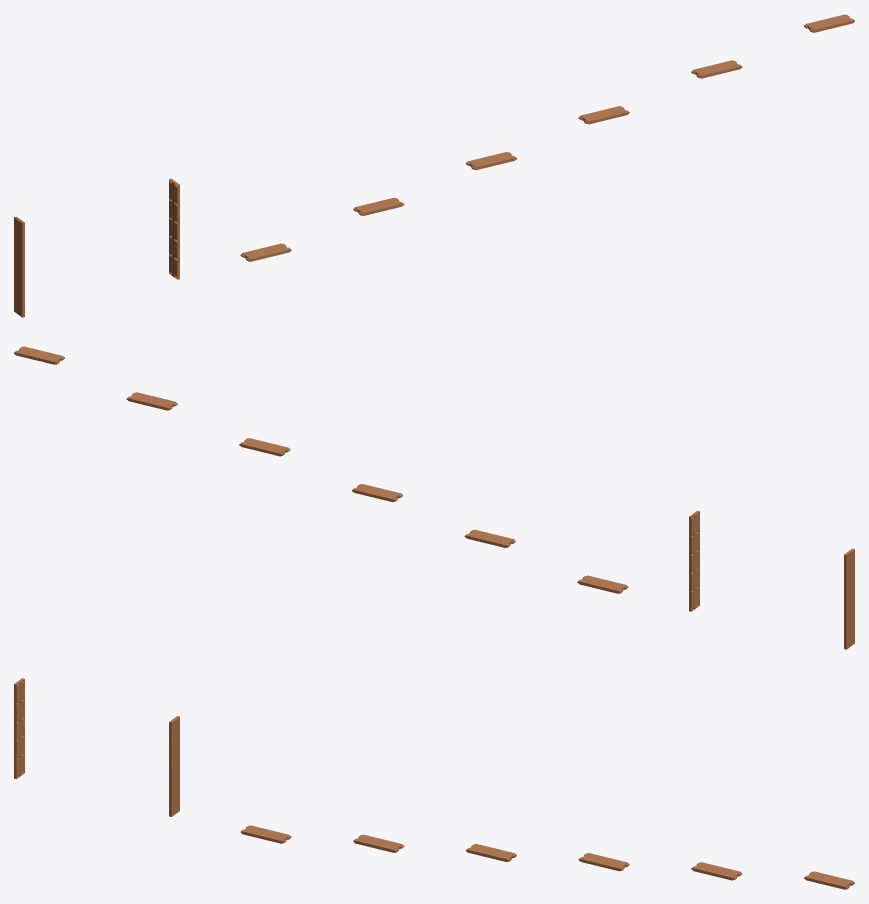
File: exploded.glb
The picture shows the model from 3 angles, top to bottom: view 1: azimuth 30°, elevation 25°; view 2: azimuth 150°, elevation 25°; view 3: azimuth 330°, elevation 25°; orthographic projection.
Visible parts, largest first — view 1: side_left_mesh, side_right_mesh; view 2: side_left_mesh, side_right_mesh; view 3: side_left_mesh, side_right_mesh, shelf_bottom_mesh, shelf_level_5_mesh, shelf_level_2_mesh, shelf_level_4_mesh, cap_top_mesh, shelf_level_3_mesh.
Boxes of the visible parts, bbox=[...] form: side_left_mesh: bbox=[14, 216, 24, 317]; side_right_mesh: bbox=[169, 178, 179, 279]; side_left_mesh: bbox=[844, 548, 854, 649]; side_right_mesh: bbox=[689, 510, 699, 611]; side_left_mesh: bbox=[14, 678, 24, 778]; side_right_mesh: bbox=[169, 716, 179, 816]; shelf_bottom_mesh: bbox=[240, 825, 291, 843]; shelf_level_5_mesh: bbox=[691, 862, 742, 880]; shelf_level_2_mesh: bbox=[353, 834, 404, 852]; shelf_level_4_mesh: bbox=[578, 853, 629, 871]; cap_top_mesh: bbox=[804, 871, 854, 889]; shelf_level_3_mesh: bbox=[466, 844, 516, 861].
Bounding box in the file's own units: 1848 × 200 × 32.
